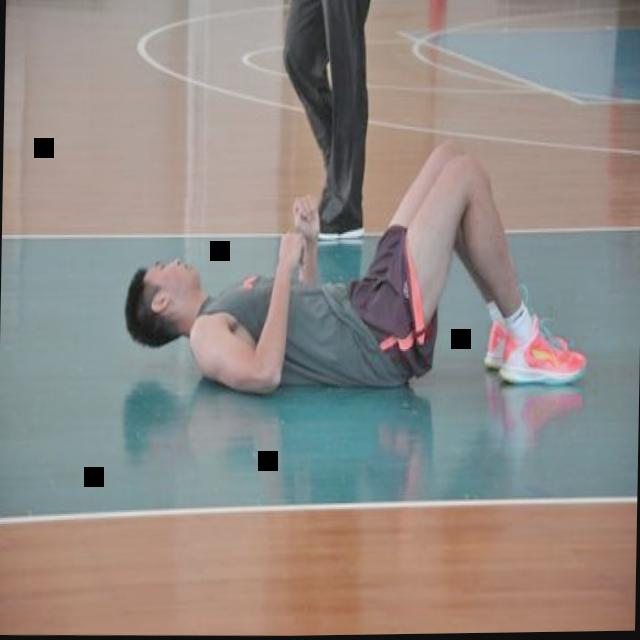Fall-Detected: (118, 129, 604, 409)
